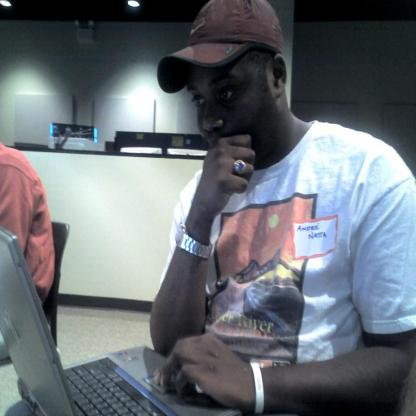board: (0, 224, 240, 415)
